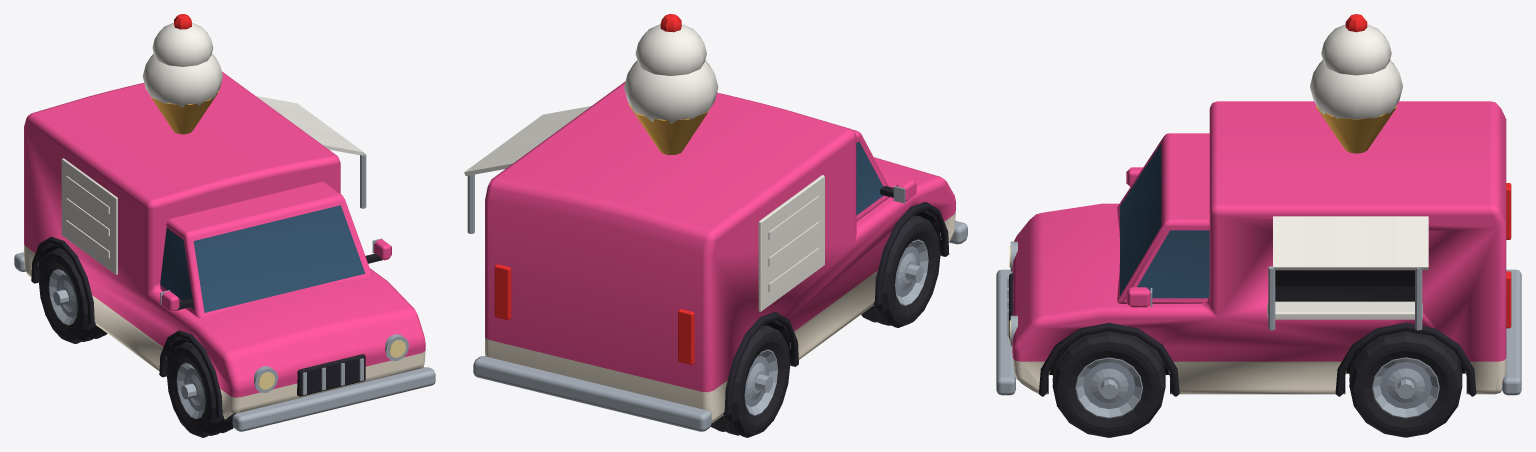
The picture shows the model from 3 angles, left to right: view 1: azimuth 30°, elevation 25°; view 2: azimuth 150°, elevation 25°; view 3: azimuth 270°, elevation 25°; orthographic projection. The views are drawn at different scales.
Parts seen in each view (by area): view 1: icecream_body, wheel_FR, wheel_RR; view 2: icecream_body, wheel_FR, wheel_RR; view 3: icecream_body, wheel_FL, wheel_RL.
Boxes of the visible parts, bbox=[...] form: icecream_body: bbox=[14, 14, 435, 431]; wheel_FR: bbox=[166, 342, 233, 437]; wheel_RR: bbox=[38, 248, 107, 343]; icecream_body: bbox=[464, 14, 967, 431]; wheel_FR: bbox=[861, 215, 940, 327]; wheel_RR: bbox=[710, 325, 790, 437]; icecream_body: bbox=[996, 14, 1521, 396]; wheel_FL: bbox=[1052, 331, 1165, 437]; wheel_RL: bbox=[1349, 331, 1462, 437].
Size of the model in its own units: 2.44 by 2.88 by 3.72.
1 material, 1 textured.
